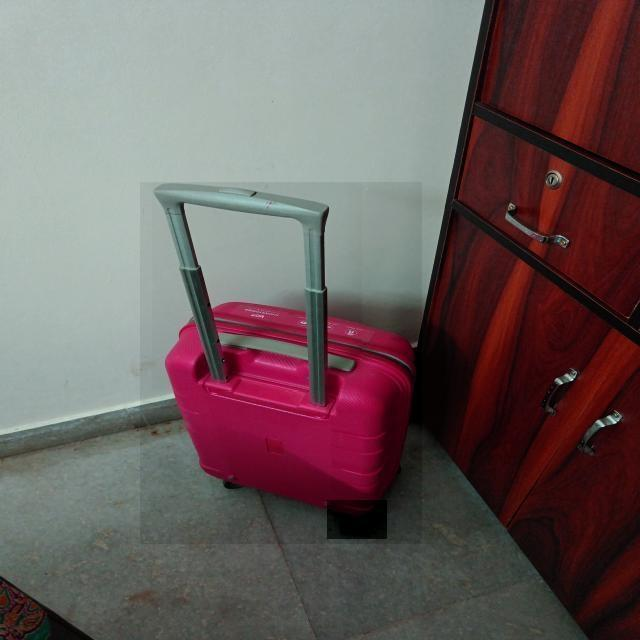Suitcase: (140, 162, 420, 546)
